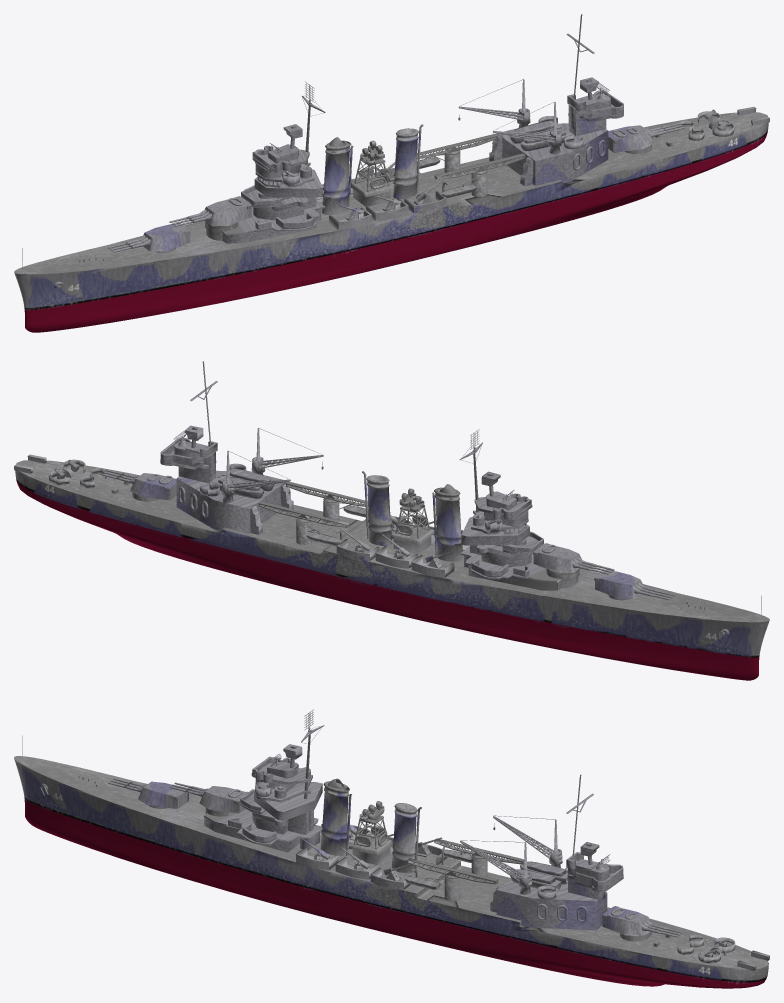
File: USSVincennes.FBX
3 views of the same model, one above another, from view 1: azimuth 30°, elevation 25°; view 2: azimuth 150°, elevation 25°; view 3: azimuth 330°, elevation 25° (orthographic).
Visible parts, largest first — view 1: CA44; view 2: CA44; view 3: CA44.
Part boxes in pixels (x1,y1,x2,y2): CA44: [14, 14, 769, 332]; CA44: [14, 361, 769, 680]; CA44: [14, 709, 769, 988].
Bounding box in the file's own units: 0.6975 × 0.1687 × 0.0795.
2 materials, 2 textured.
